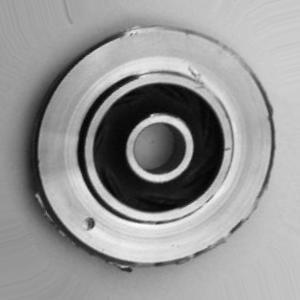casting_with_burr: (28, 21, 278, 275)
crack: (185, 56, 218, 101)
pit: (75, 209, 103, 238)
